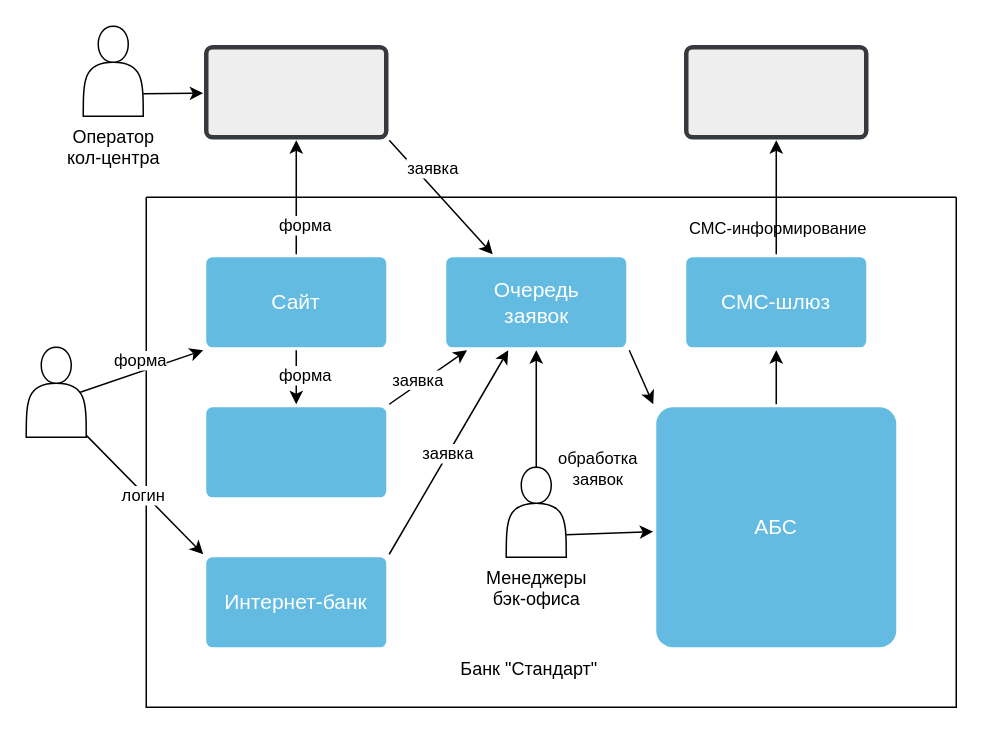
Some shapes in this 983 by 734 pixel diagram are drawn without their labels. The box of each missing label's shape, as (x1, y1, x2, y2) in pixels:
Клиент: (25, 346, 86, 437)
Система кол-центра: (206, 406, 386, 496)
Система партнерского кол-центра: (203, 44, 388, 139)
Телеком оператор: (683, 44, 868, 139)
